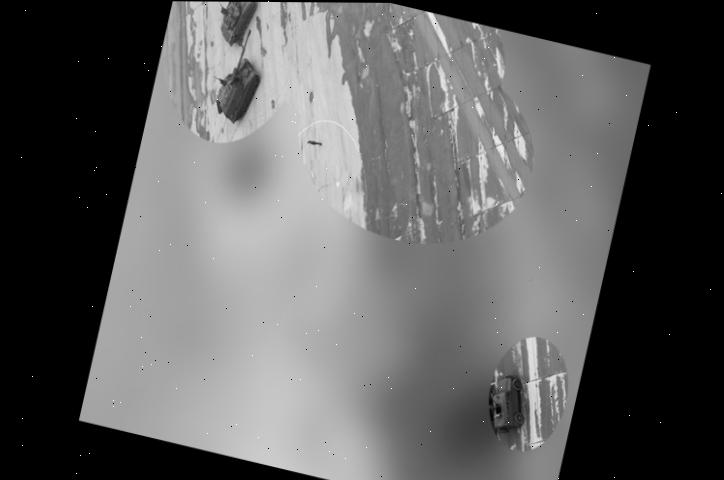armored_car: (481, 370, 531, 439)
tank: (206, 26, 270, 131), (208, 2, 266, 50)
